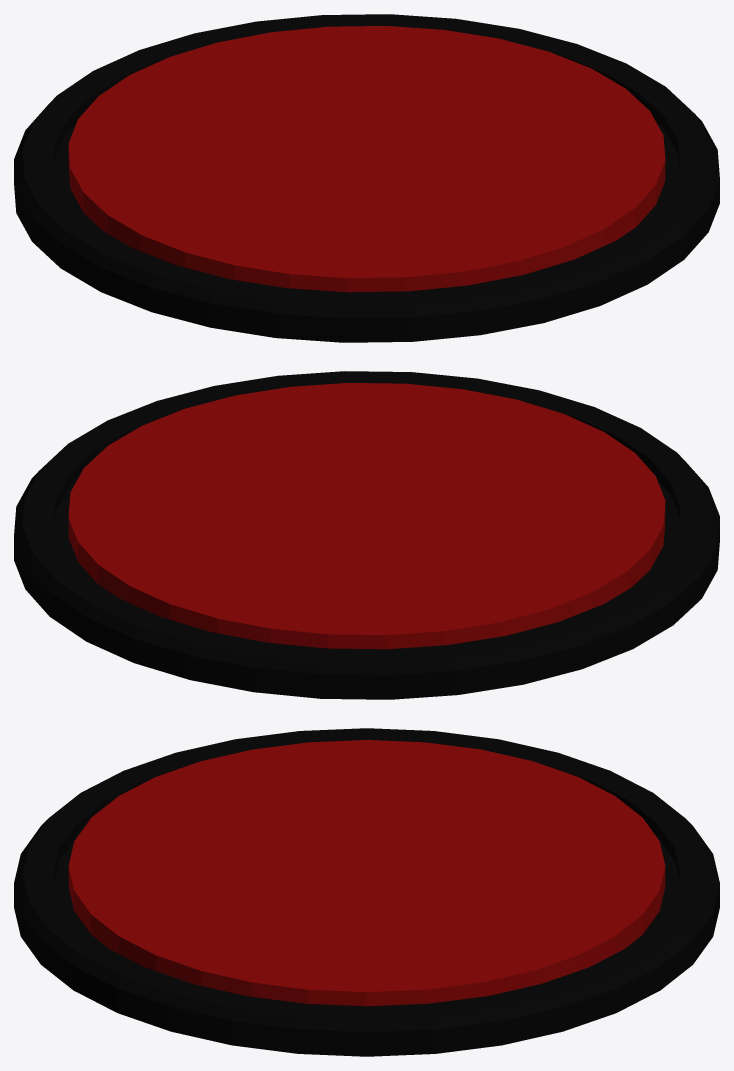
Rendered from Button.fbx.
3 renders of one model, top to bottom at view 1: azimuth 30°, elevation 25°; view 2: azimuth 150°, elevation 25°; view 3: azimuth 270°, elevation 25°, orthographic.
Visible parts, largest first — view 1: Cylinder.002, Cylinder.001; view 2: Cylinder.002, Cylinder.001; view 3: Cylinder.002, Cylinder.001.
Part boxes in pixels (left/top/right/bottom): Cylinder.002: left=68, top=26, right=665, bottom=292; Cylinder.001: left=14, top=14, right=719, bottom=342; Cylinder.002: left=68, top=383, right=665, bottom=649; Cylinder.001: left=14, top=371, right=719, bottom=699; Cylinder.002: left=68, top=740, right=665, bottom=1006; Cylinder.001: left=14, top=728, right=719, bottom=1056.
Size of the model in its own units: 200 by 12.99 by 200.
